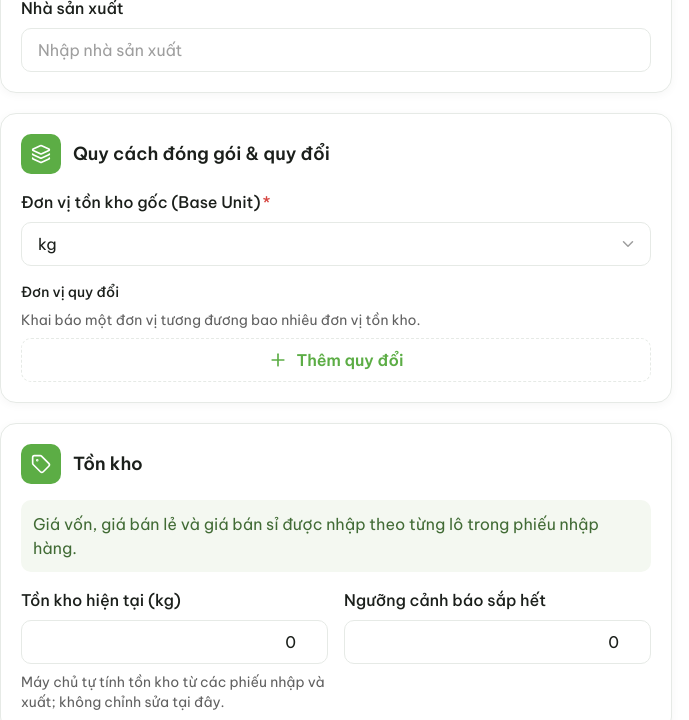
it: ProductForm ProductKind flow › requires a factor after adding a conversion and does not save an empty value
(page scrolled)
Click the button "Thêm quy đổi".
click(336, 360)  # box [21,338,651,382]
(page scrolled)
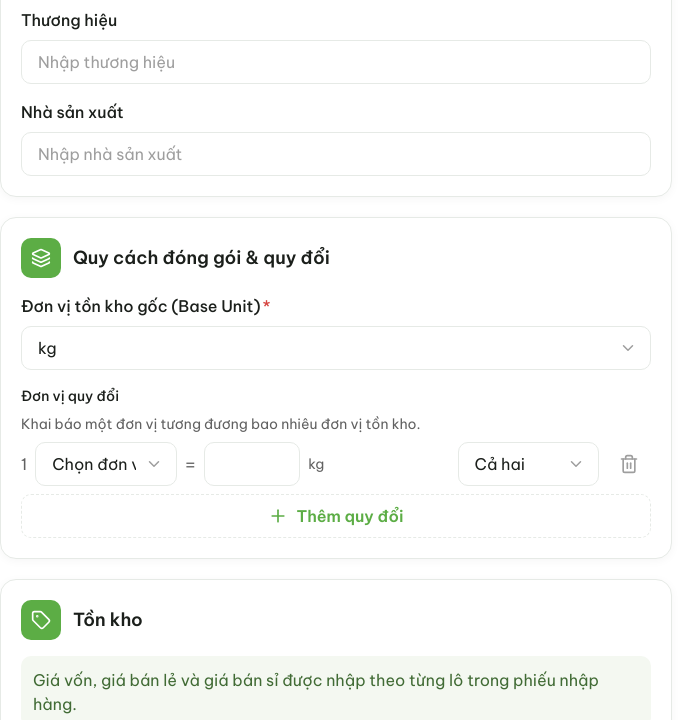
Now the number field named "Hệ số quy đổi 1" is not empty, box [204,442,300,486]
Now the dropdown named "Áp dụng quy đổi 1" shows "Cả hai", box [458,442,599,486]
Submit the form named "Lưu thay đổi"
(page scrolled)
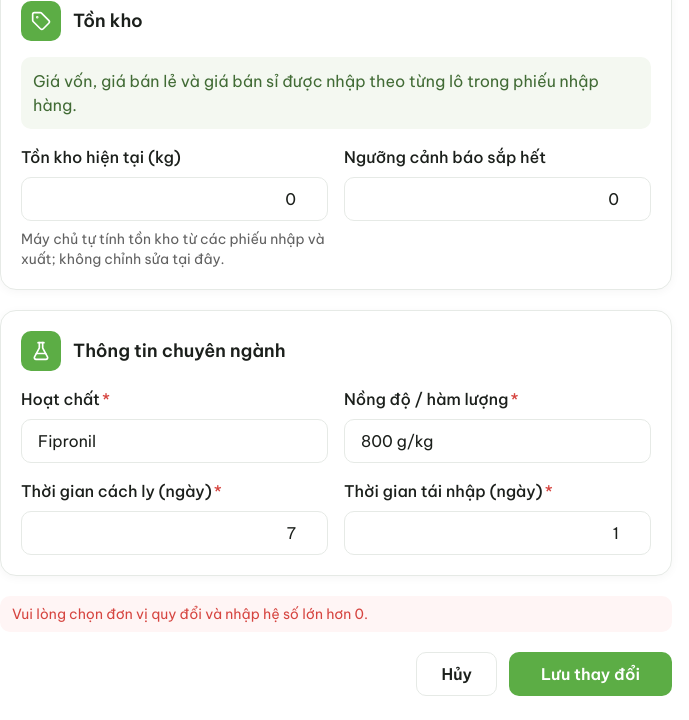
Now the text "Vui lòng chọn đơn vị quy đổi và nhập hệ số lớn hơn 0." is shown, box [0,596,672,632]
